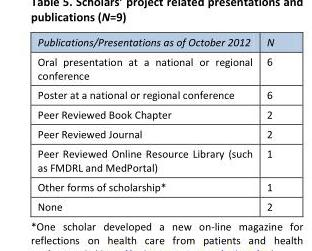table: (36, 36, 273, 212)
table column: (36, 36, 258, 212), (258, 36, 273, 212)
table column header: (36, 36, 273, 52)
table row: (36, 52, 273, 85), (36, 144, 273, 177), (36, 85, 273, 105), (36, 124, 273, 144), (36, 177, 273, 197), (36, 105, 273, 124), (36, 36, 273, 52), (36, 197, 273, 212)
